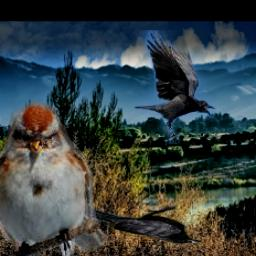Crow: (135, 31, 216, 145), (84, 206, 202, 245)
Sparrow: (0, 101, 109, 256)
